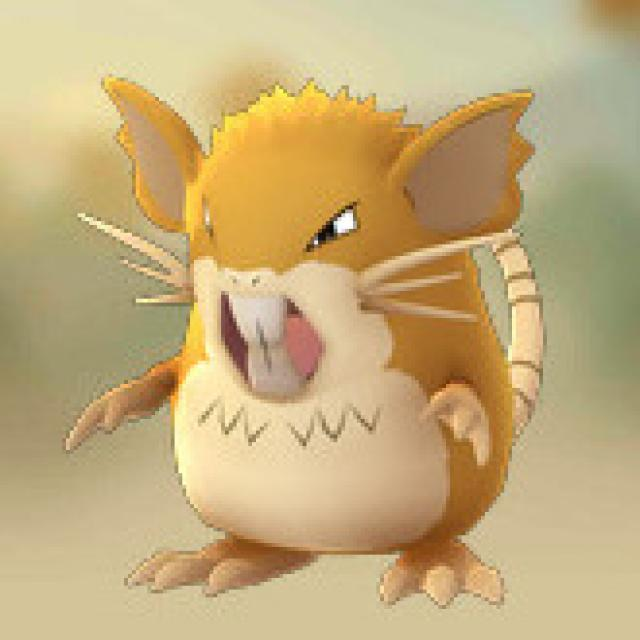Raticate: (95, 74, 527, 603)
